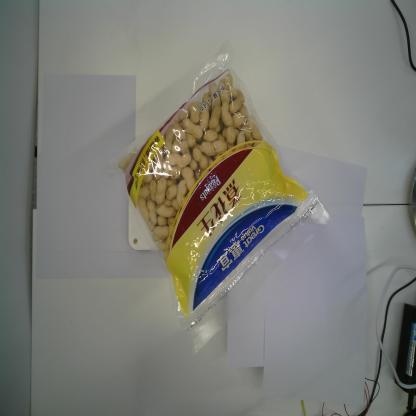Dried Food: (104, 38, 333, 356)
